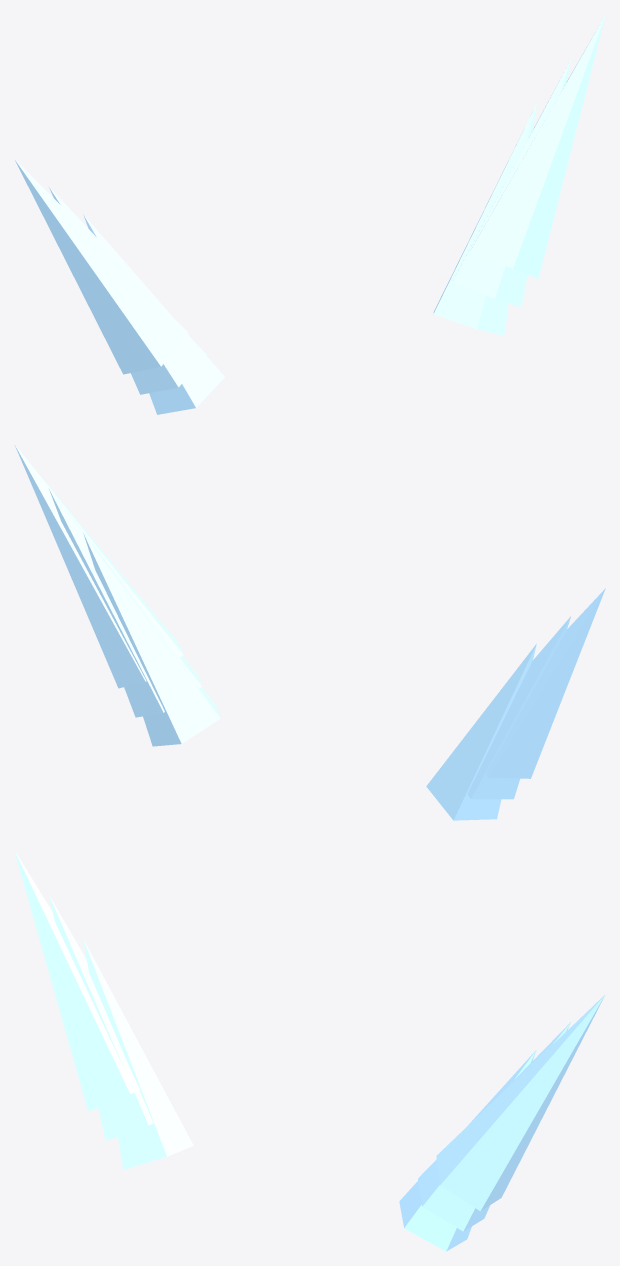
Rendered from NIX_AWAKENED_BUILD.glb.
The picture shows the model from 3 angles, top to bottom: view 1: azimuth 30°, elevation 25°; view 2: azimuth 150°, elevation 25°; view 3: azimuth 330°, elevation 25°; orthographic projection.
Visible parts, largest first — view 1: ANI08C_nix-calder_1_mantle_facet_R2, ANI08C_nix-calder_1_mantle_facet_L2, ANI08C_nix-calder_1_mantle_facet_R0, ANI08C_nix-calder_1_mantle_facet_R1, ANI08C_nix-calder_1_mantle_facet_L0, ANI08C_nix-calder_1_mantle_facet_L1; view 2: ANI08C_nix-calder_1_mantle_facet_R0, ANI08C_nix-calder_1_mantle_facet_R2, ANI08C_nix-calder_1_mantle_facet_L2, ANI08C_nix-calder_1_mantle_facet_L0, ANI08C_nix-calder_1_mantle_facet_R1, ANI08C_nix-calder_1_mantle_facet_L1; view 3: ANI08C_nix-calder_1_mantle_facet_R2, ANI08C_nix-calder_1_mantle_facet_L2, ANI08C_nix-calder_1_mantle_facet_L0, ANI08C_nix-calder_1_mantle_facet_L1, ANI08C_nix-calder_1_mantle_facet_R0, ANI08C_nix-calder_1_mantle_facet_R1.
Part boxes in pixels (<box>): ANI08C_nix-calder_1_mantle_facet_R2: <box>470,15,605,278</box>; ANI08C_nix-calder_1_mantle_facet_L2: <box>14,159,188,374</box>; ANI08C_nix-calder_1_mantle_facet_R0: <box>433,103,536,335</box>; ANI08C_nix-calder_1_mantle_facet_R1: <box>452,59,571,307</box>; ANI08C_nix-calder_1_mantle_facet_L0: <box>83,214,224,414</box>; ANI08C_nix-calder_1_mantle_facet_L1: <box>49,187,206,394</box>; ANI08C_nix-calder_1_mantle_facet_R0: <box>83,533,220,746</box>; ANI08C_nix-calder_1_mantle_facet_R2: <box>14,444,183,688</box>; ANI08C_nix-calder_1_mantle_facet_L2: <box>486,588,605,778</box>; ANI08C_nix-calder_1_mantle_facet_L0: <box>426,643,536,820</box>; ANI08C_nix-calder_1_mantle_facet_R1: <box>49,489,201,717</box>; ANI08C_nix-calder_1_mantle_facet_L1: <box>467,616,570,799</box>; ANI08C_nix-calder_1_mantle_facet_R2: <box>436,994,605,1211</box>; ANI08C_nix-calder_1_mantle_facet_L2: <box>14,850,139,1111</box>; ANI08C_nix-calder_1_mantle_facet_L0: <box>83,939,193,1169</box>; ANI08C_nix-calder_1_mantle_facet_L1: <box>48,894,153,1140</box>; ANI08C_nix-calder_1_mantle_facet_R0: <box>399,1050,536,1251</box>; ANI08C_nix-calder_1_mantle_facet_R1: <box>418,1022,570,1231</box>.
Size of the model in its own units: 0.6 by 0.2661 by 0.0679.
